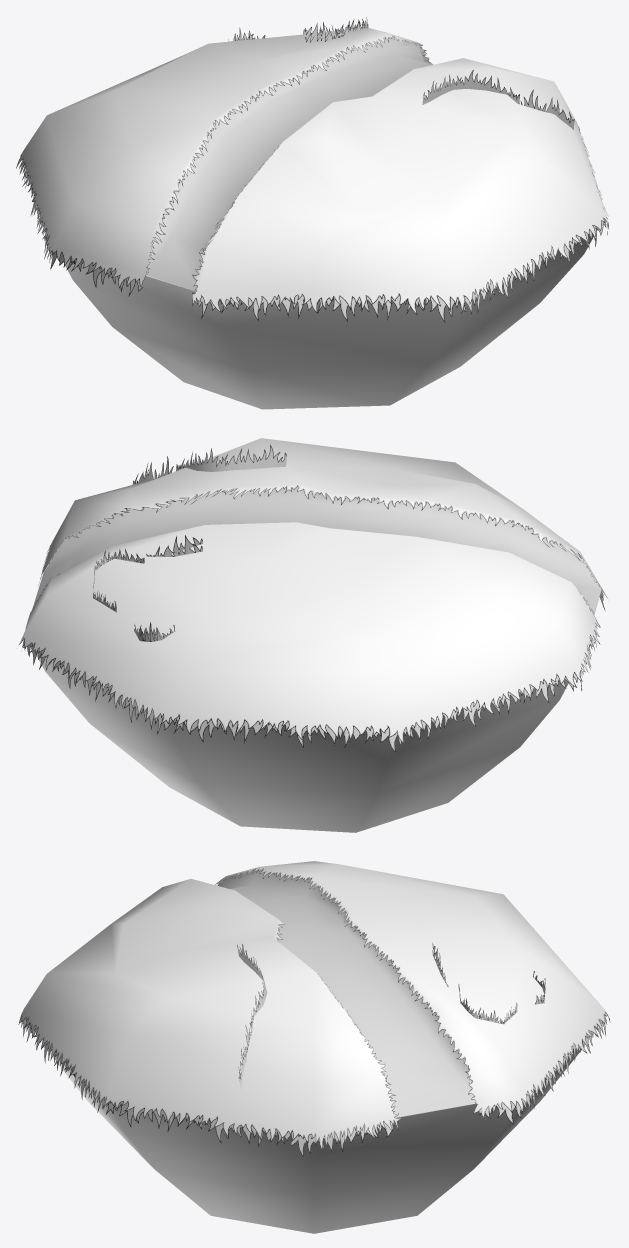
Rendered from Island1.fbx.
3 renders of one model, top to bottom at view 1: azimuth 30°, elevation 25°; view 2: azimuth 150°, elevation 25°; view 3: azimuth 270°, elevation 25°, orthographic. The views are drawn at different scales.
Parts seen in each view (by area): view 1: GroundGrass, Ground_UnderWater2; view 2: GroundGrass, Ground_UnderWater2; view 3: GroundGrass, Ground_UnderWater2.
Boxes of the visible parts, <box> form: GroundGrass: <box>16,17,608,322</box>; Ground_UnderWater2: <box>63,36,597,409</box>; GroundGrass: <box>18,438,607,753</box>; Ground_UnderWater2: <box>32,486,601,832</box>; GroundGrass: <box>18,861,610,1157</box>; Ground_UnderWater2: <box>41,869,585,1233</box>.
Bounding box in the file's own units: 593 × 321 × 592.
2 materials, 1 textured.
